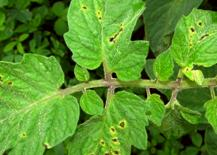Tomato leaf bacterial spot: (0, 51, 85, 155), (57, 0, 153, 83), (56, 88, 153, 155), (170, 6, 217, 74)
